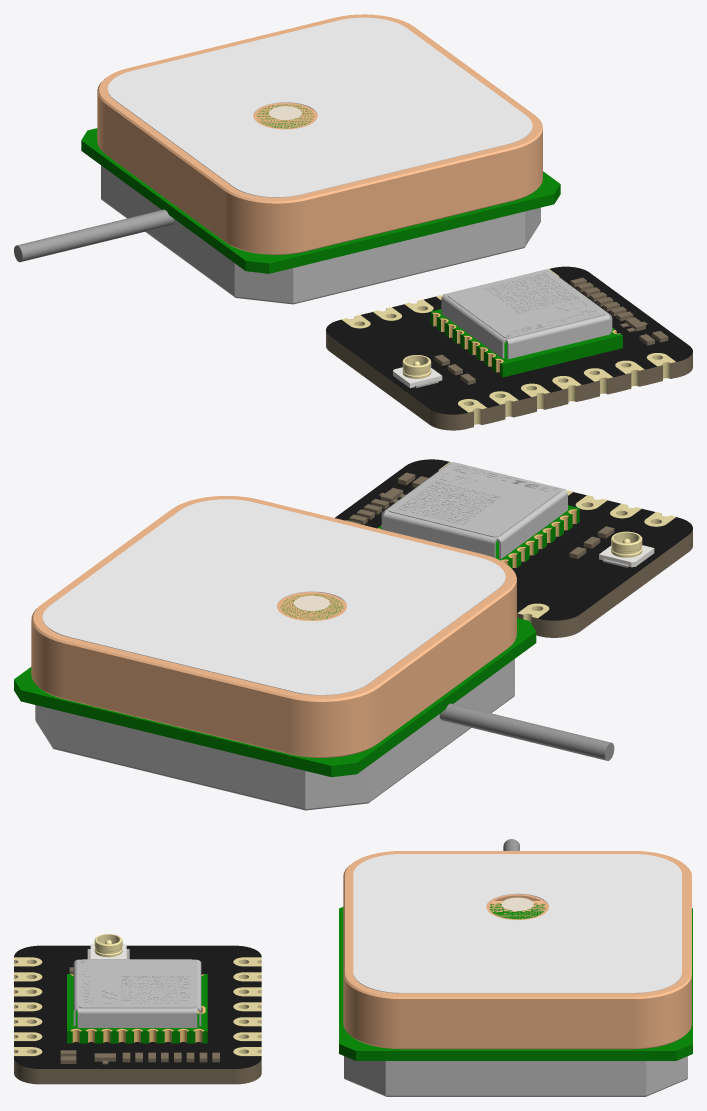
File: quectel_l76k_gnss.glb
3 renders of one model, top to bottom at view 1: azimuth 30°, elevation 25°; view 2: azimuth 150°, elevation 25°; view 3: azimuth 270°, elevation 25°, orthographic. The views are drawn at different scales.
Parts seen in each view (by area): view 1: Component8:1_e6f9af, Component8:1_823f1b, Component9:1, Seeed Studio XIAO-ESP32-S3 (Sense):1_b1c7a7, L76 v1:1_9948cf, Component7:1, Seeed Studio XIAO-ESP32-S3 (Sense):1_c70c47, Seeed Studio XIAO-ESP32-S3 (Sense):1_3d57a2, L76 v1:1_87bf2c, =>[0:1:1:6], L76 v1:1_4d6f27, U.FL Connector v1:1_b54708; view 2: Component8:1_e6f9af, Component8:1_823f1b, Component9:1, L76 v1:1_9948cf, Seeed Studio XIAO-ESP32-S3 (Sense):1_b1c7a7, Component7:1, Seeed Studio XIAO-ESP32-S3 (Sense):1_c70c47, =>[0:1:1:6], Seeed Studio XIAO-ESP32-S3 (Sense):1_3d57a2, L76 v1:1_87bf2c, U.FL Connector v1:1_b54708, L76 v1:1_4d6f27 (+1 smaller); view 3: Component8:1_e6f9af, Component8:1_823f1b, Seeed Studio XIAO-ESP32-S3 (Sense):1_b1c7a7, Component9:1, L76 v1:1_9948cf, Component7:1, Seeed Studio XIAO-ESP32-S3 (Sense):1_c70c47, Seeed Studio XIAO-ESP32-S3 (Sense):1_3d57a2, L76 v1:1_87bf2c, L76 v1:1_4d6f27, U.FL Connector v1:1_b54708.
Boxes of the visible parts, box(x1,y1,x2,y2) form: Component8:1_e6f9af: box(107, 17, 532, 197); Component8:1_823f1b: box(97, 14, 542, 254); Component9:1: box(101, 165, 540, 304); Seeed Studio XIAO-ESP32-S3 (Sense):1_b1c7a7: box(326, 266, 692, 414); L76 v1:1_9948cf: box(441, 269, 612, 359); Component7:1: box(81, 104, 560, 273); Seeed Studio XIAO-ESP32-S3 (Sense):1_c70c47: box(326, 277, 692, 430); Seeed Studio XIAO-ESP32-S3 (Sense):1_3d57a2: box(341, 268, 675, 424); L76 v1:1_87bf2c: box(430, 309, 622, 377); =>[0:1:1:6]: box(14, 209, 174, 262); L76 v1:1_4d6f27: box(432, 312, 620, 372); U.FL Connector v1:1_b54708: box(402, 355, 431, 378); Component8:1_e6f9af: box(42, 499, 505, 695); Component8:1_823f1b: box(31, 496, 516, 757); Component9:1: box(35, 659, 514, 810); L76 v1:1_9948cf: box(381, 462, 567, 558); Seeed Studio XIAO-ESP32-S3 (Sense):1_b1c7a7: box(335, 459, 692, 620); Component7:1: box(14, 594, 536, 777); Seeed Studio XIAO-ESP32-S3 (Sense):1_c70c47: box(346, 472, 692, 637); =>[0:1:1:6]: box(439, 703, 614, 760); Seeed Studio XIAO-ESP32-S3 (Sense):1_3d57a2: box(438, 461, 675, 623); L76 v1:1_87bf2c: box(378, 505, 579, 568); U.FL Connector v1:1_b54708: box(611, 531, 642, 557); L76 v1:1_4d6f27: box(378, 509, 577, 567); Component8:1_e6f9af: box(353, 854, 681, 993); Component8:1_823f1b: box(343, 851, 691, 1049); Seeed Studio XIAO-ESP32-S3 (Sense):1_b1c7a7: box(14, 945, 261, 1068); Component9:1: box(344, 1056, 687, 1096); L76 v1:1_9948cf: box(73, 959, 201, 1027); Component7:1: box(339, 903, 692, 1060); Seeed Studio XIAO-ESP32-S3 (Sense):1_c70c47: box(14, 964, 261, 1084); Seeed Studio XIAO-ESP32-S3 (Sense):1_3d57a2: box(14, 957, 261, 1055); L76 v1:1_87bf2c: box(67, 974, 207, 1043); L76 v1:1_4d6f27: box(70, 974, 205, 1042); U.FL Connector v1:1_b54708: box(94, 934, 122, 957).
Bounding box in the file's own units: 0.0373 × 0.00832 × 0.0487.
